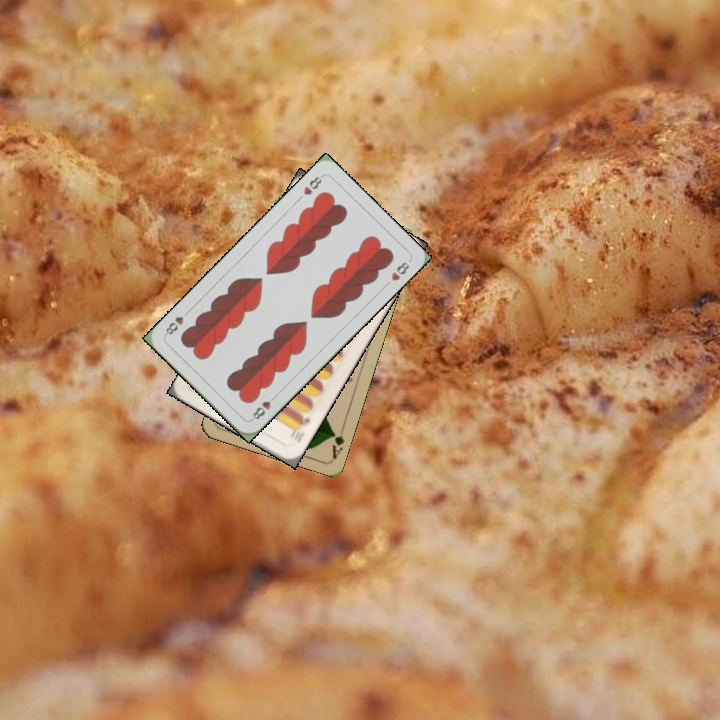E10: (293, 411, 312, 445)
GA: (328, 421, 347, 461)
H8: (247, 391, 279, 423), (299, 171, 326, 197)
